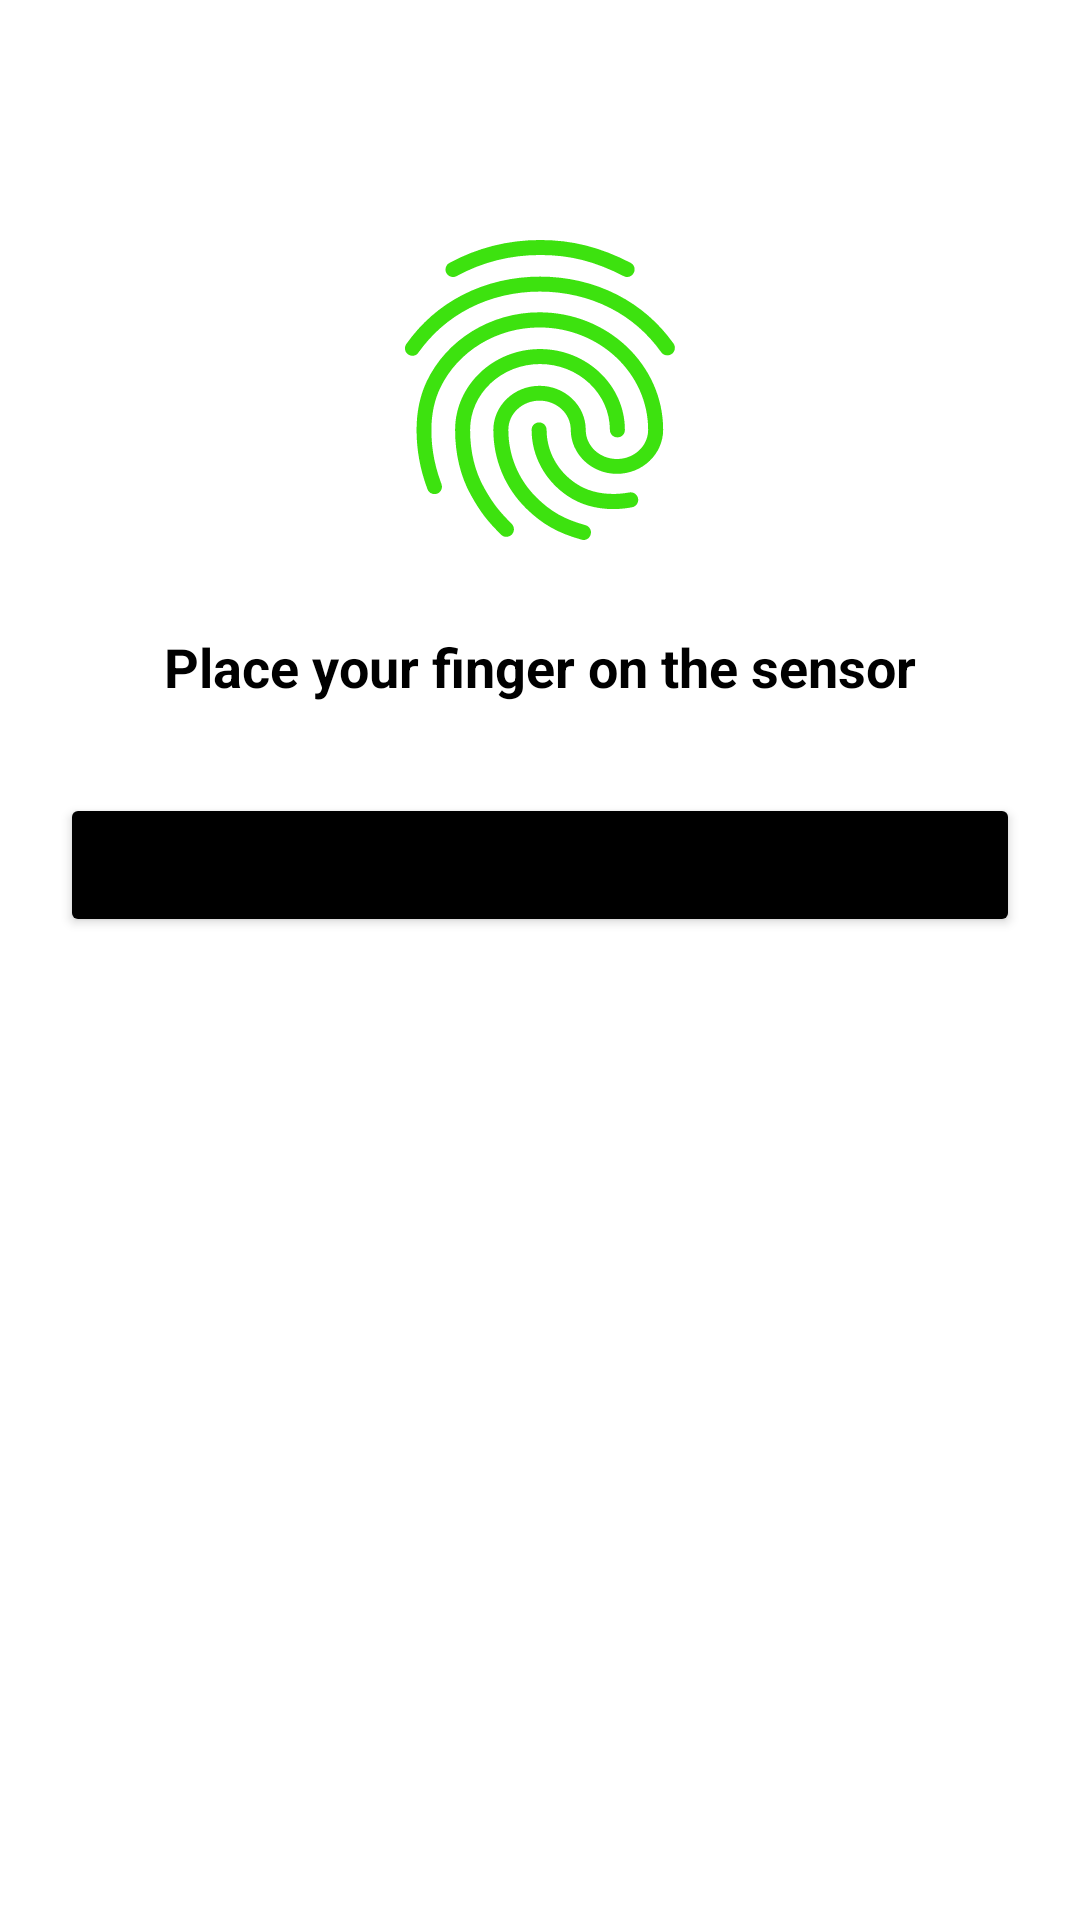

Where to tap for icons on this 1080*1920 app screen, as (x=x, y=y):
fingerprint: (x=540, y=390)
